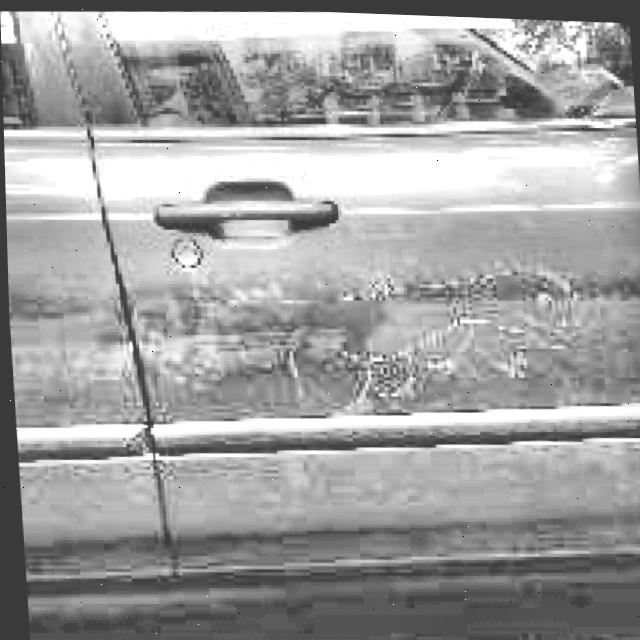door_scratch: (275, 275, 611, 422)
